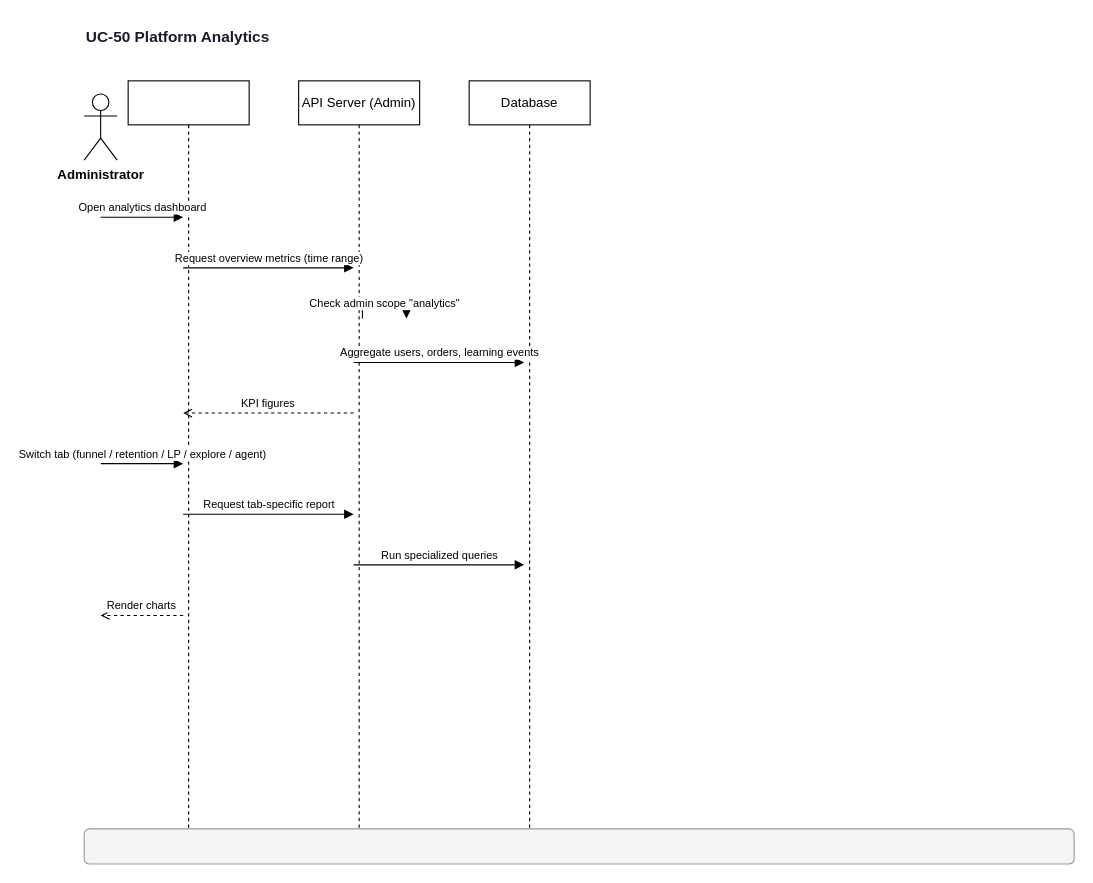
This 1093x883 diagram has some shape labels left out. The shapes that lost their labels are listed below. From the top down, each one's box as (x1, y1, x2, y2) in pixels, then its label:
(127, 80, 249, 831): Web UI (Analytics)
(83, 828, 1074, 864): Cosmo Learn — UC-50 Platform Analytics
